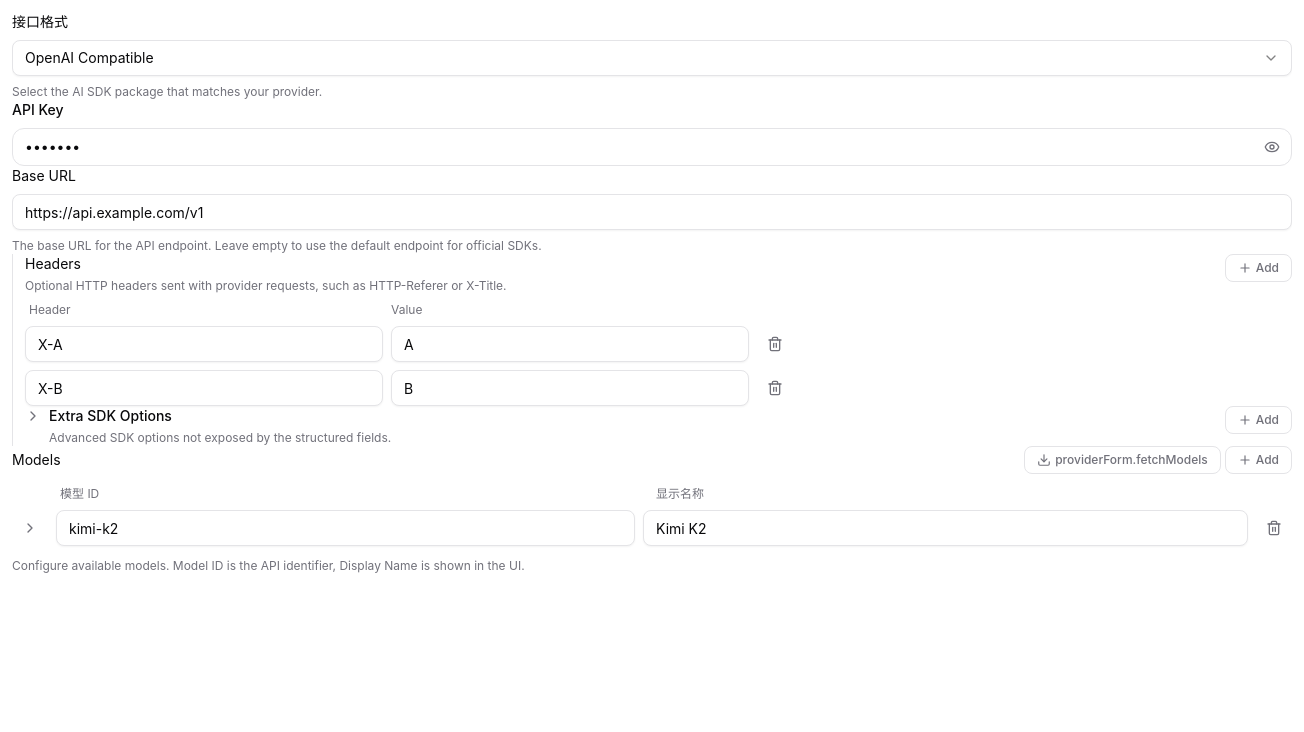
Test case: OpenCodeFormFields › rejects case-insensitive duplicate header names and restores the input
Replace the text in the 3rd field showing "X-B" with "x-a" at (204, 388), box [25,370,383,406]
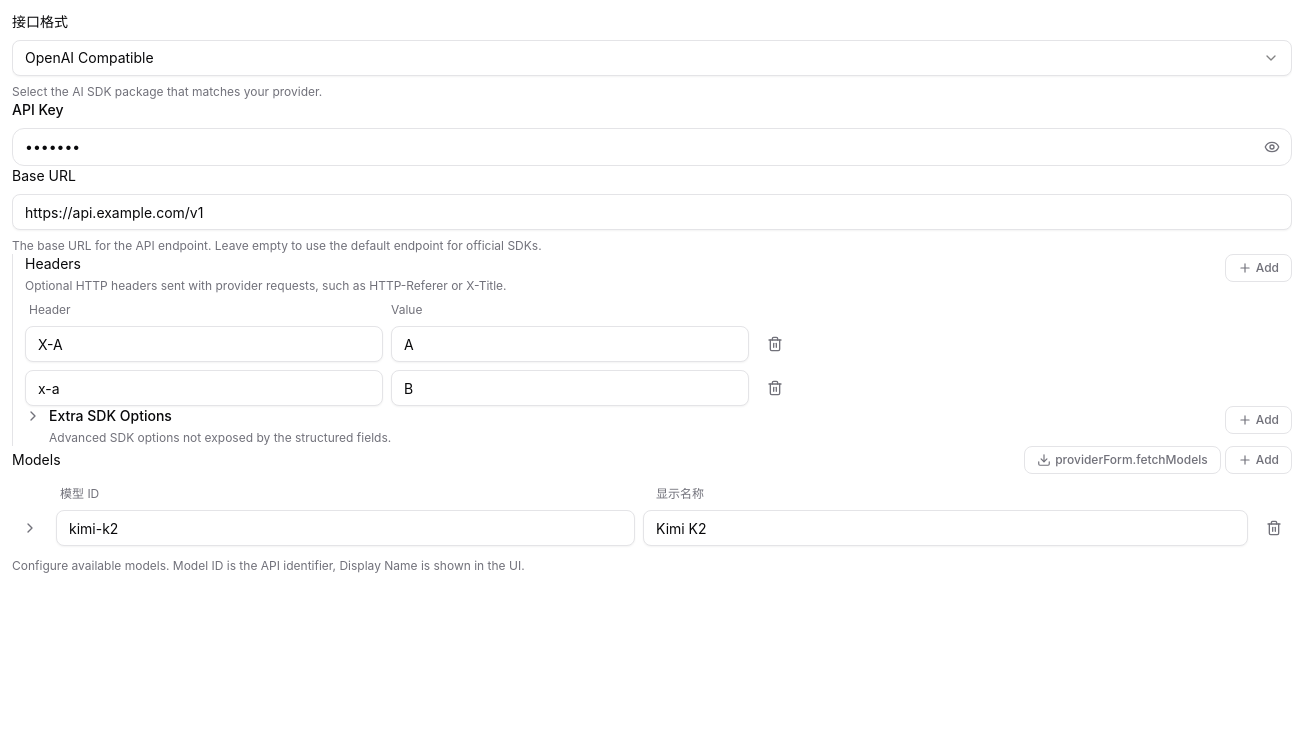
Leave the 3rd field showing "X-B", box [25,370,383,406]
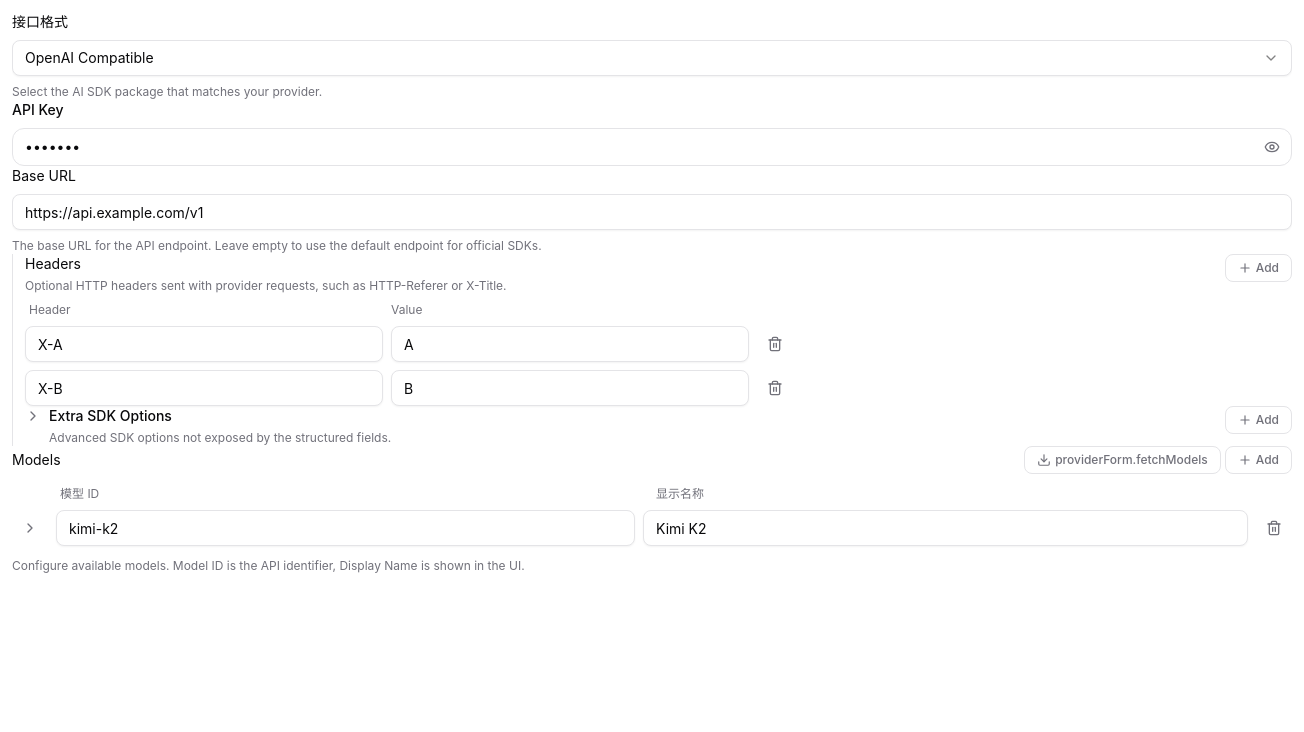
Expected: the 3rd field showing "X-B" holds "X-B", [25,370,383,406]
